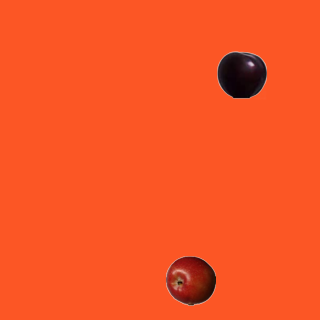Apple Braeburn: (165, 255, 215, 305)
Cherry Wax Black: (216, 49, 266, 99)
